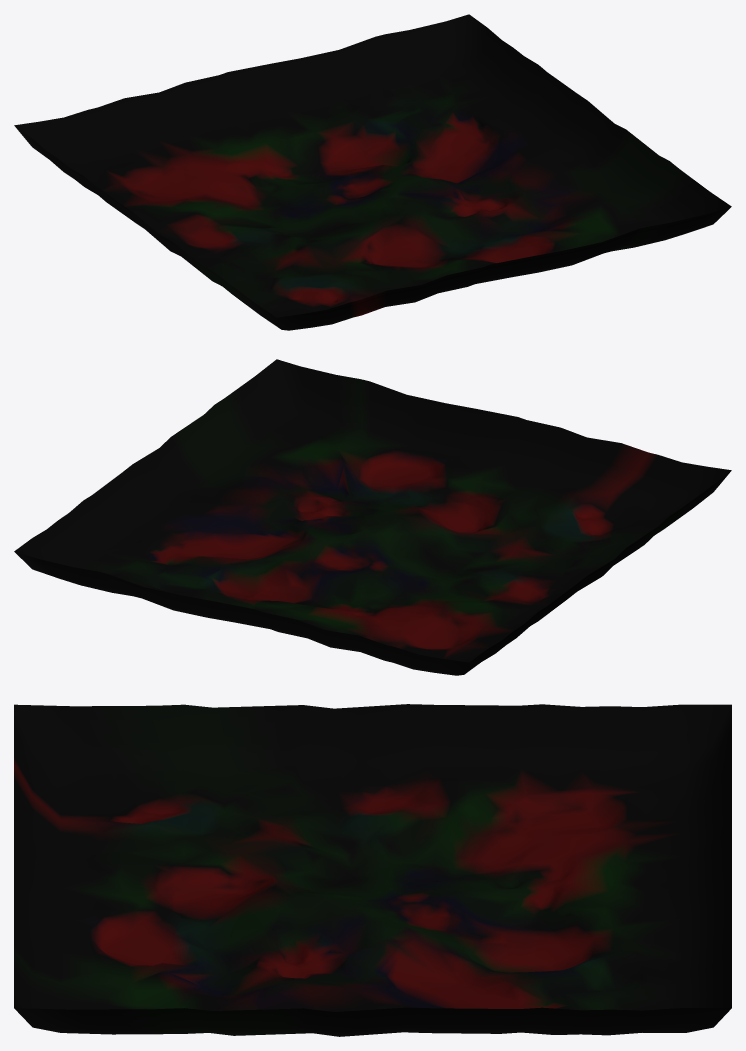
File: SM_Cave_Roof_20x20.FBX
3 views of the same model, one above another, from view 1: azimuth 30°, elevation 25°; view 2: azimuth 150°, elevation 25°; view 3: azimuth 270°, elevation 25° (orthographic). The views are drawn at different scales.
Parts seen in each view (by area): view 1: Cave_Roof_20x20; view 2: Cave_Roof_20x20; view 3: Cave_Roof_20x20.
Part boxes in pixels (<box>): Cave_Roof_20x20: <box>14,14,731,330</box>; Cave_Roof_20x20: <box>14,359,731,675</box>; Cave_Roof_20x20: <box>14,704,731,1036</box>.
Bounding box in the file's own units: 2376 × 266 × 2376.
